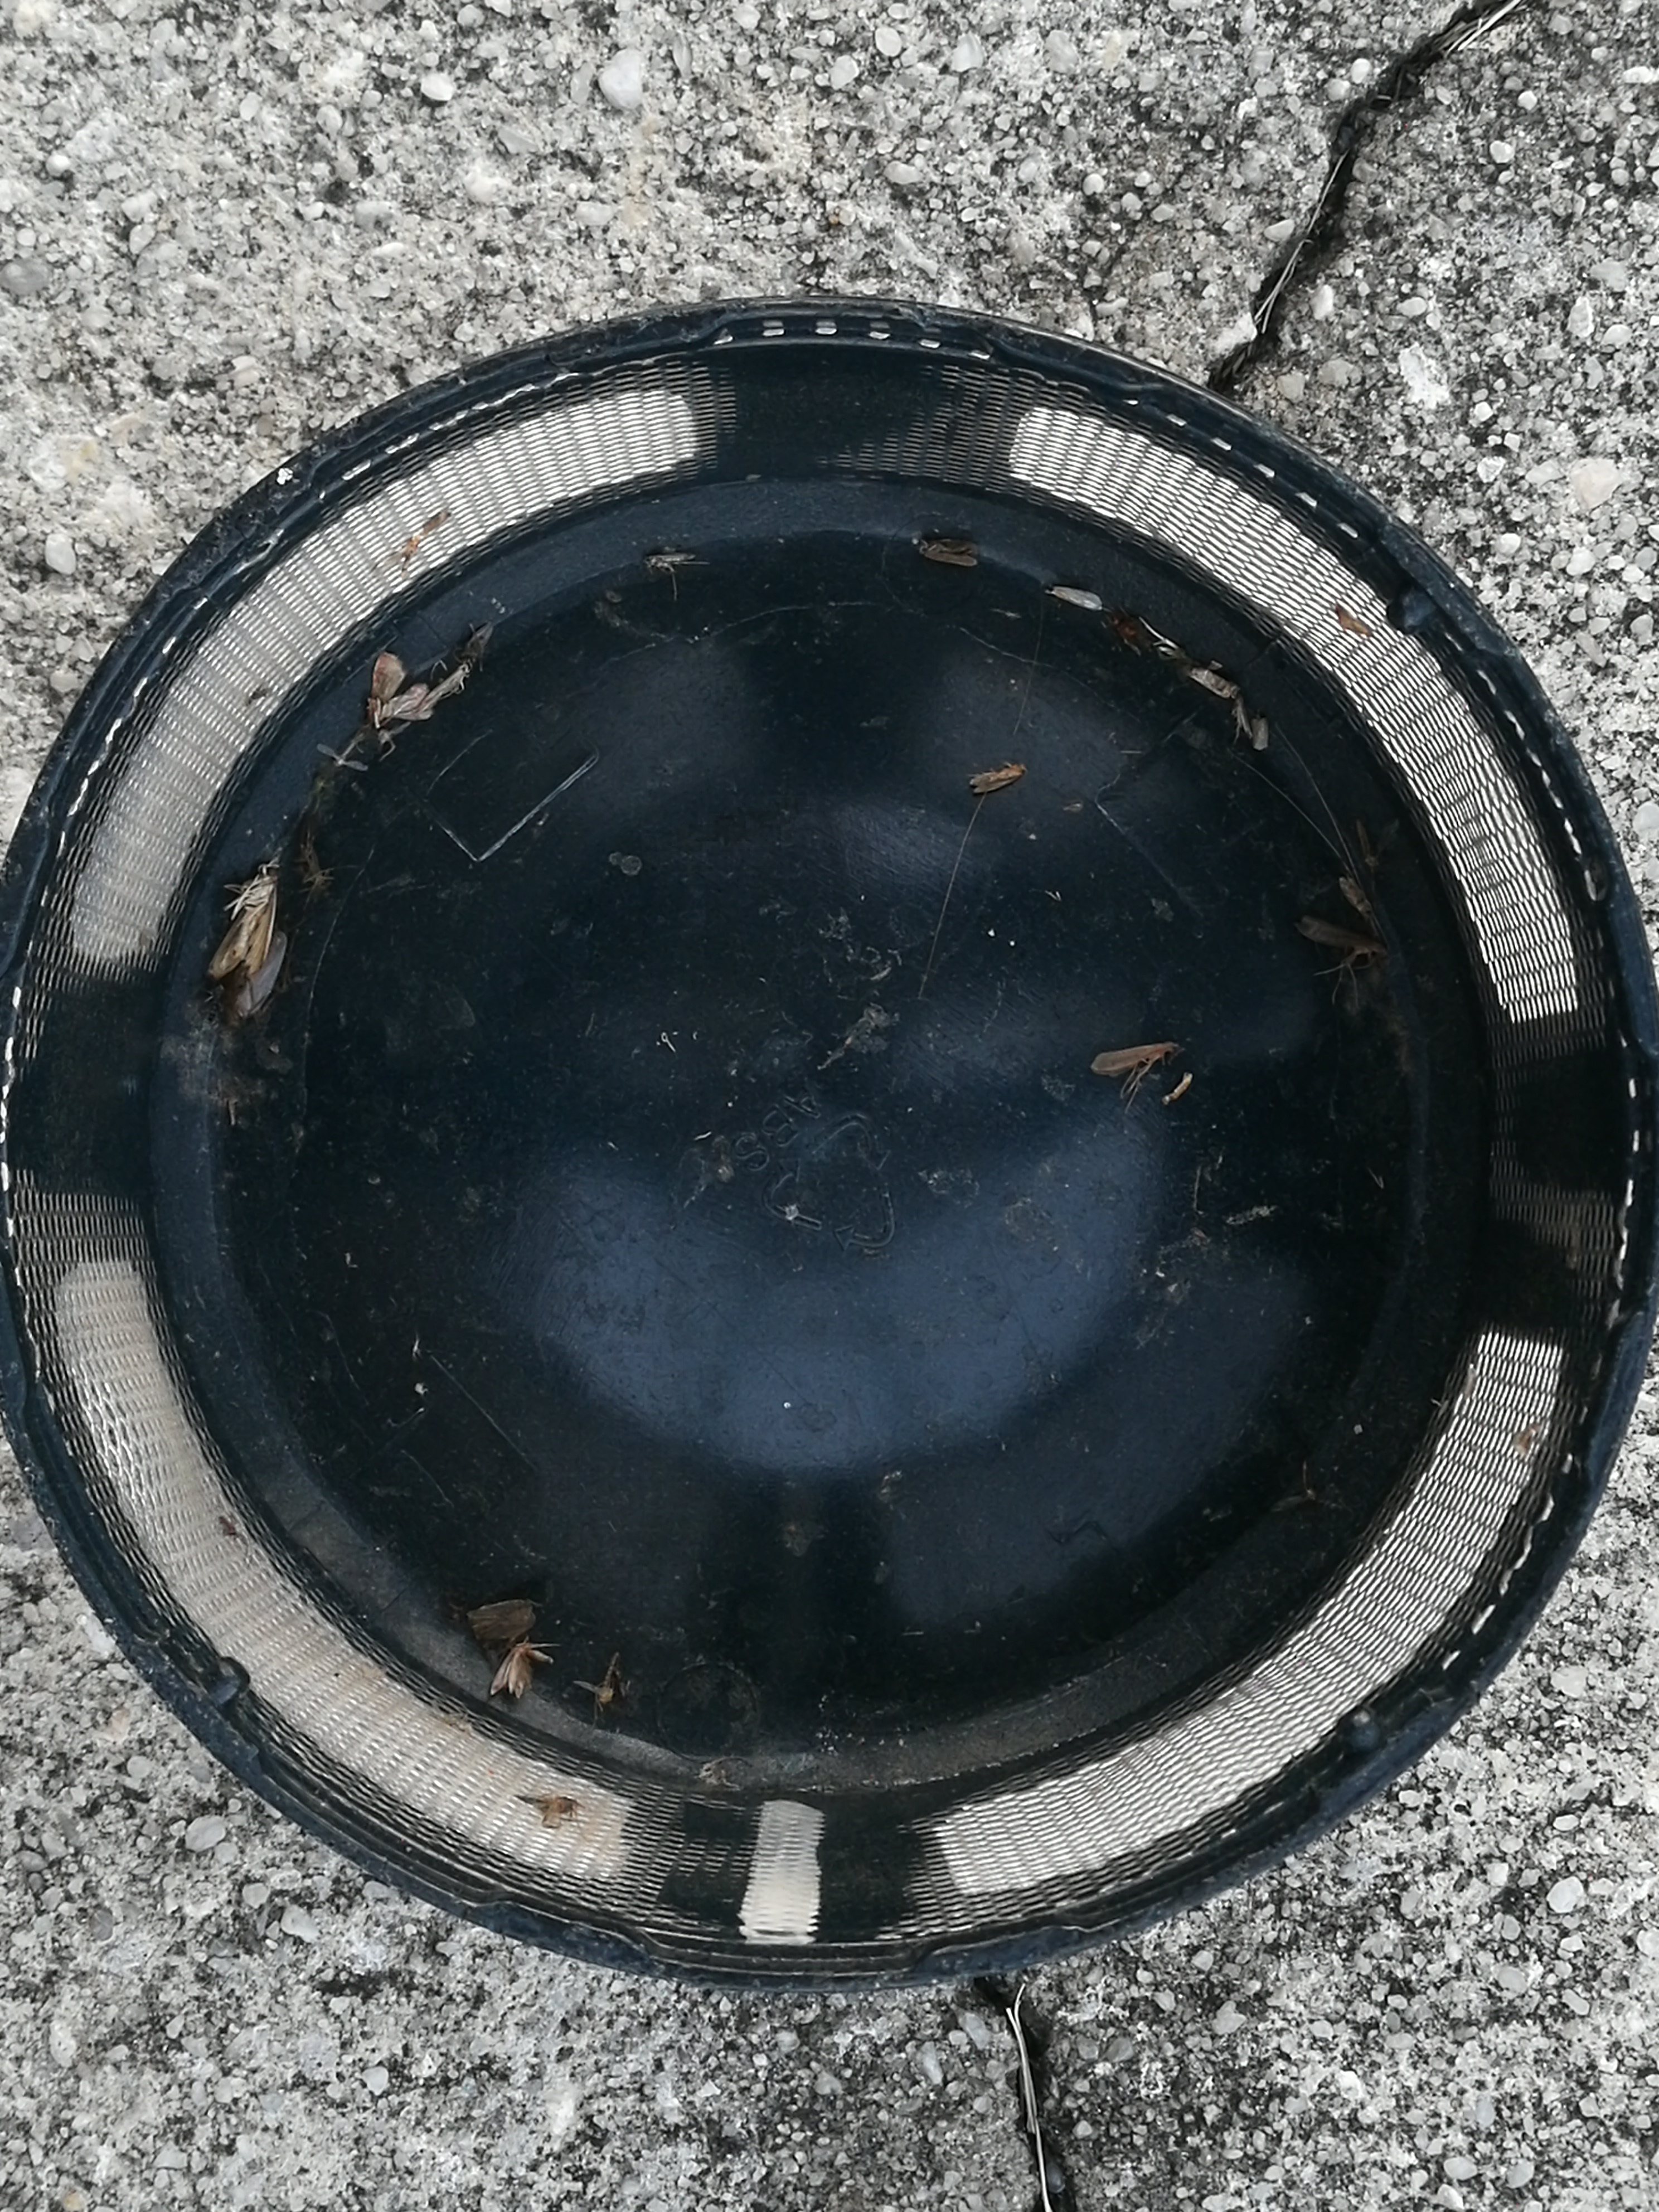mosquito: (1295, 920, 1391, 961), (1091, 1040, 1178, 1071), (913, 535, 983, 564), (971, 763, 1025, 791), (1342, 878, 1375, 920), (1044, 585, 1100, 610), (1354, 819, 1382, 864), (645, 554, 701, 570)
moth: (207, 864, 277, 974), (366, 651, 432, 721), (491, 1644, 542, 1700)
